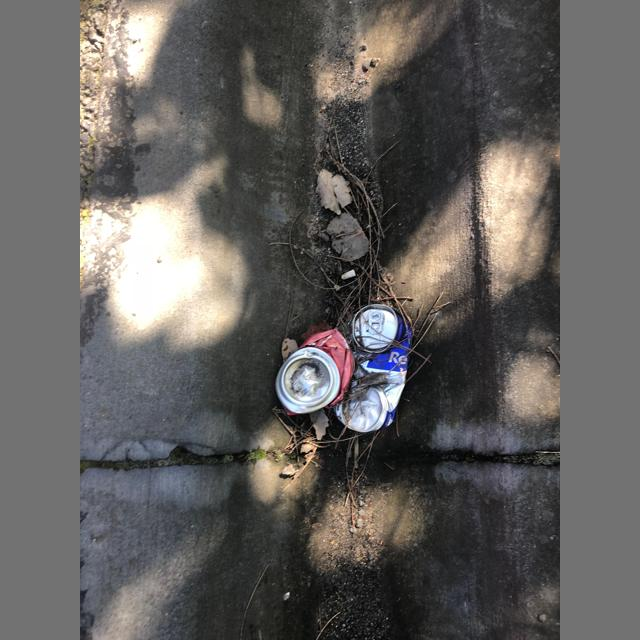litter: (333, 304, 412, 432), (276, 329, 354, 415), (368, 311, 383, 334), (342, 269, 356, 280)
